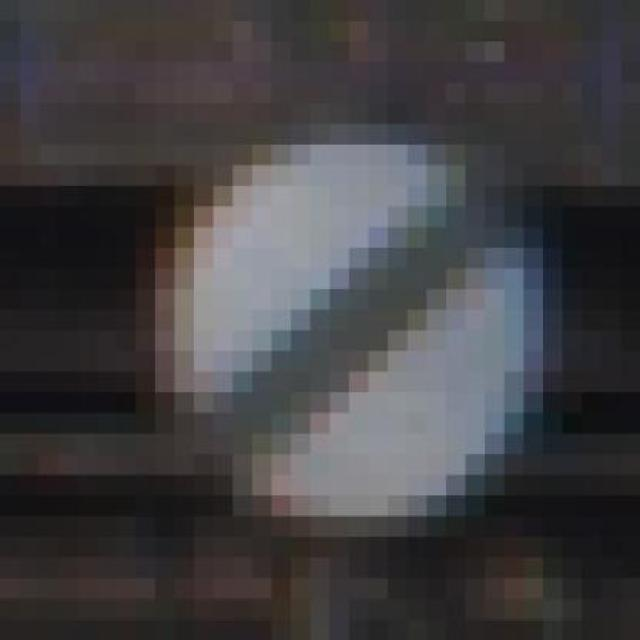End of all speed and passing limits: (116, 123, 562, 537)
